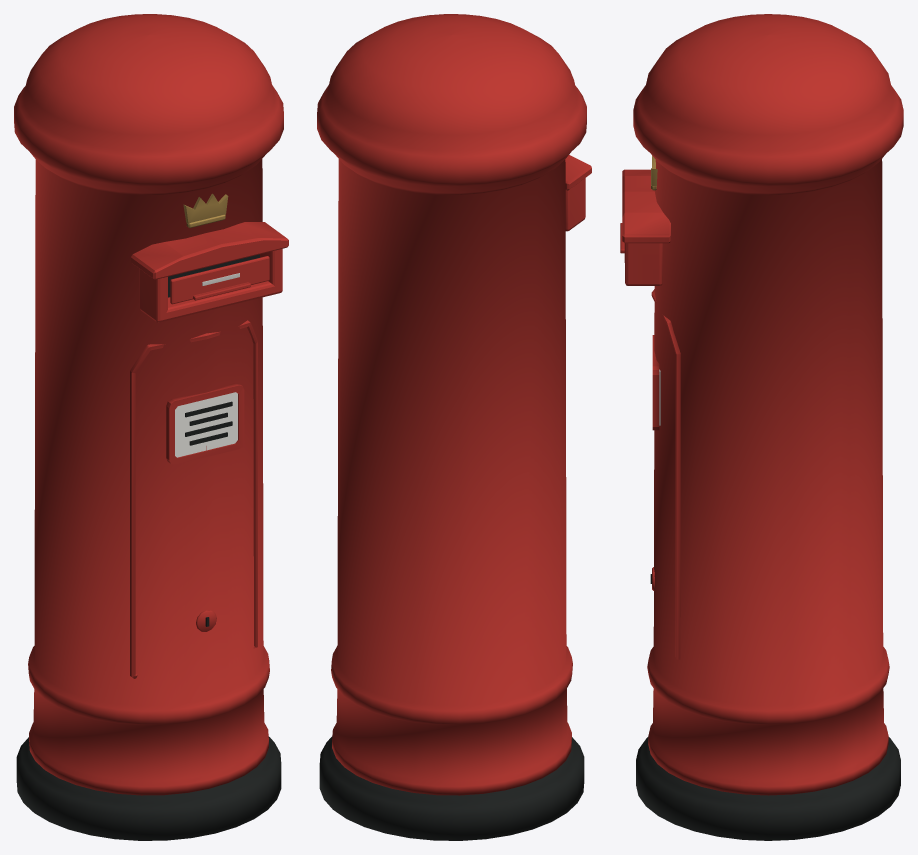
Rendered from postBox.glb.
3 renders of one model, left to right at view 1: azimuth 30°, elevation 25°; view 2: azimuth 150°, elevation 25°; view 3: azimuth 270°, elevation 25°, orthographic.
Parts seen in each view (by area): view 1: postBox, flap; view 2: postBox; view 3: postBox.
Part boxes in pixels (left/top/right/bottom): postBox: left=14, top=14, right=288, bottom=840; flap: left=170, top=256, right=269, bottom=304; postBox: left=317, top=14, right=591, bottom=840; postBox: left=622, top=14, right=903, bottom=840.
Bounding box in the file's own units: 0.5 × 1.53 × 0.524.
